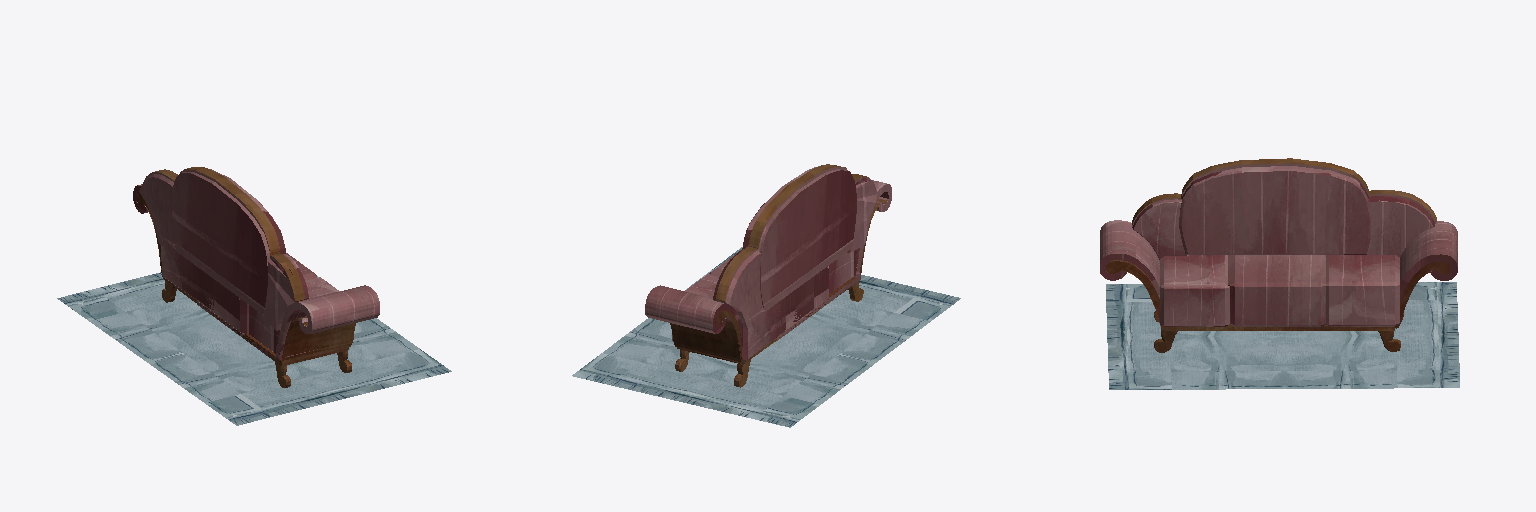
3 renders of one model, left to right at view 1: azimuth 30°, elevation 25°; view 2: azimuth 150°, elevation 25°; view 3: azimuth 270°, elevation 25°, orthographic.
Visible parts, largest first — view 1: Plane, rug; view 2: Plane, rug; view 3: Plane, rug.
Boxes of the visible parts, x1=… form: Plane: x1=133, y1=167, x2=379, y2=387; rug: x1=57, y1=272, x2=451, y2=425; Plane: x1=645, y1=164, x2=891, y2=387; rug: x1=572, y1=247, x2=960, y2=427; Plane: x1=1100, y1=158, x2=1457, y2=352; rug: x1=1106, y1=282, x2=1459, y2=389.
Bounding box in the file's own units: 1.04 × 0.7223 × 1.47.
Materials: 3 (3 with a texture image).